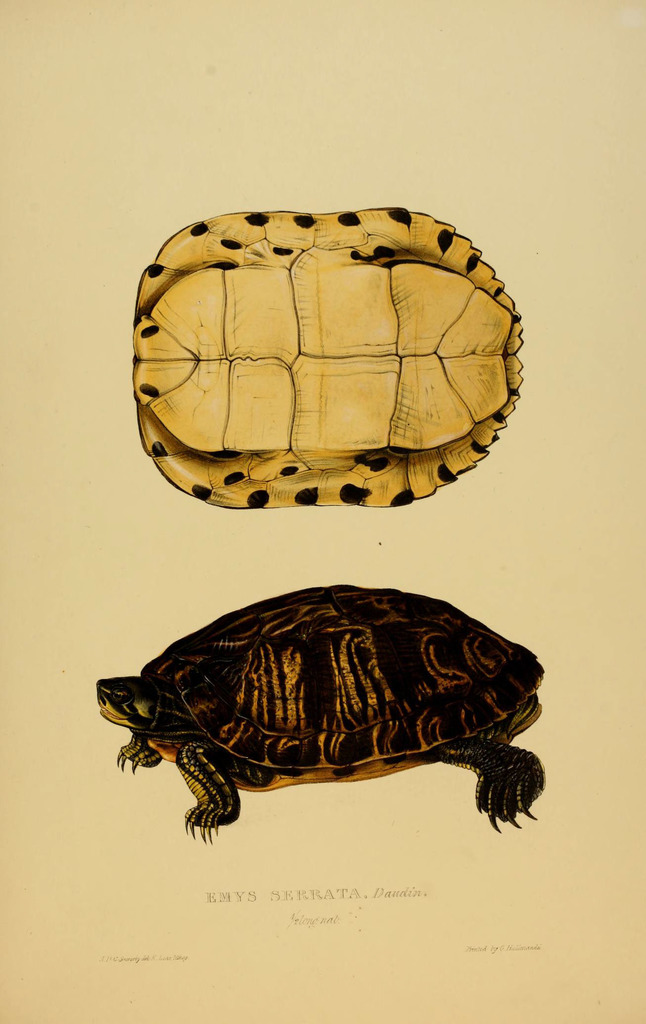Sea turtles: (121, 202, 533, 508), (97, 586, 558, 848)
